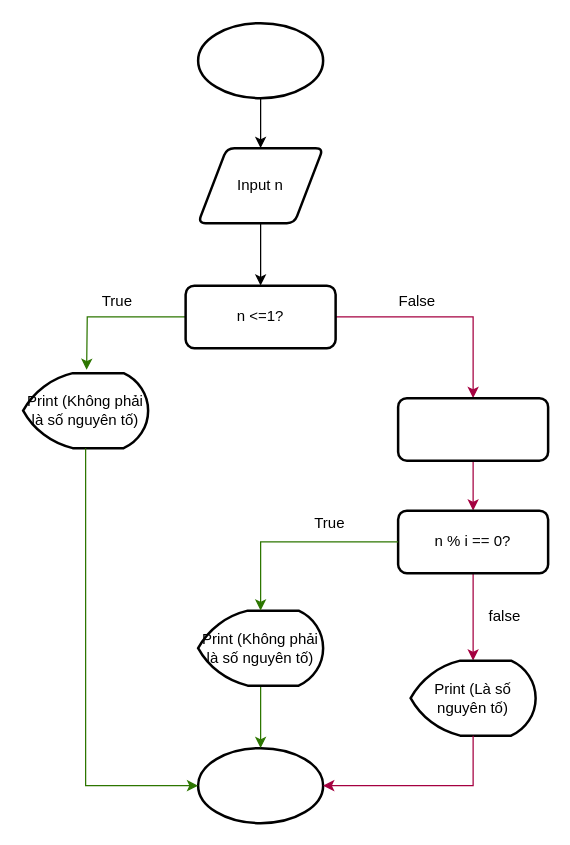
The diagram is 570 pixels wide and 845 high, and some of its shapes have lost their labels. The box of each missing label's shape, as (x1, y1, x2, y2) in pixels:
End: (196, 746, 324, 824)
For i = 2 to n-1: (396, 396, 549, 461)
Start: (196, 21, 324, 99)
